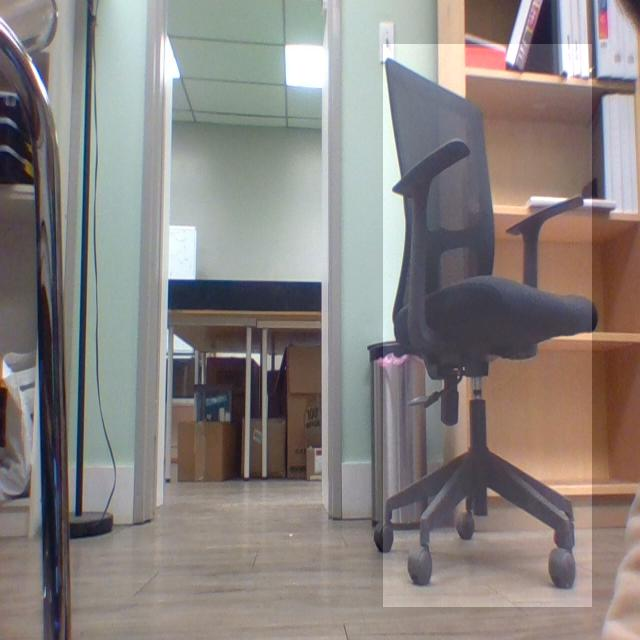black-chair: (383, 44, 593, 608)
